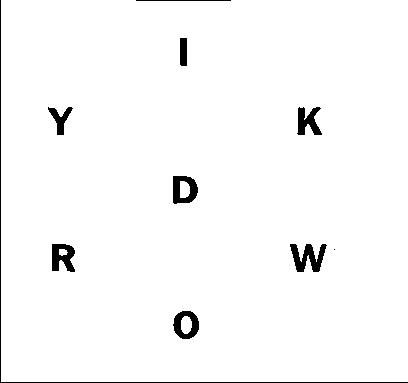I: (174, 34, 195, 74)
